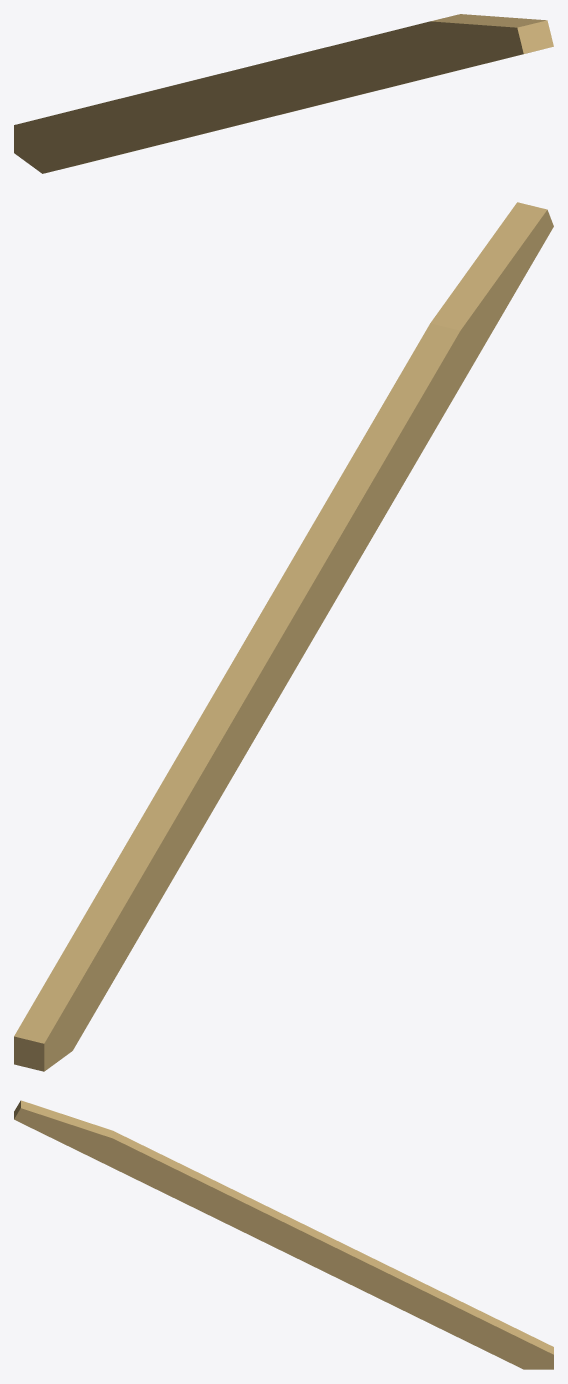
The picture shows the model from 3 angles, top to bottom: view 1: azimuth 30°, elevation 25°; view 2: azimuth 150°, elevation 25°; view 3: azimuth 270°, elevation 25°; orthographic projection. The views are drawn at different scales.
Parts seen in each view (by area): view 1: L1-3-S10-326-WEB04; view 2: L1-3-S10-326-WEB04; view 3: L1-3-S10-326-WEB04.
Part boxes in pixels (x1=…): L1-3-S10-326-WEB04: x1=14, y1=14, x2=553, y2=173; L1-3-S10-326-WEB04: x1=14, y1=202, x2=553, y2=1071; L1-3-S10-326-WEB04: x1=14, y1=1100, x2=553, y2=1369.
Size of the model in its own units: 0.045 by 0.7024 by 1.31.
